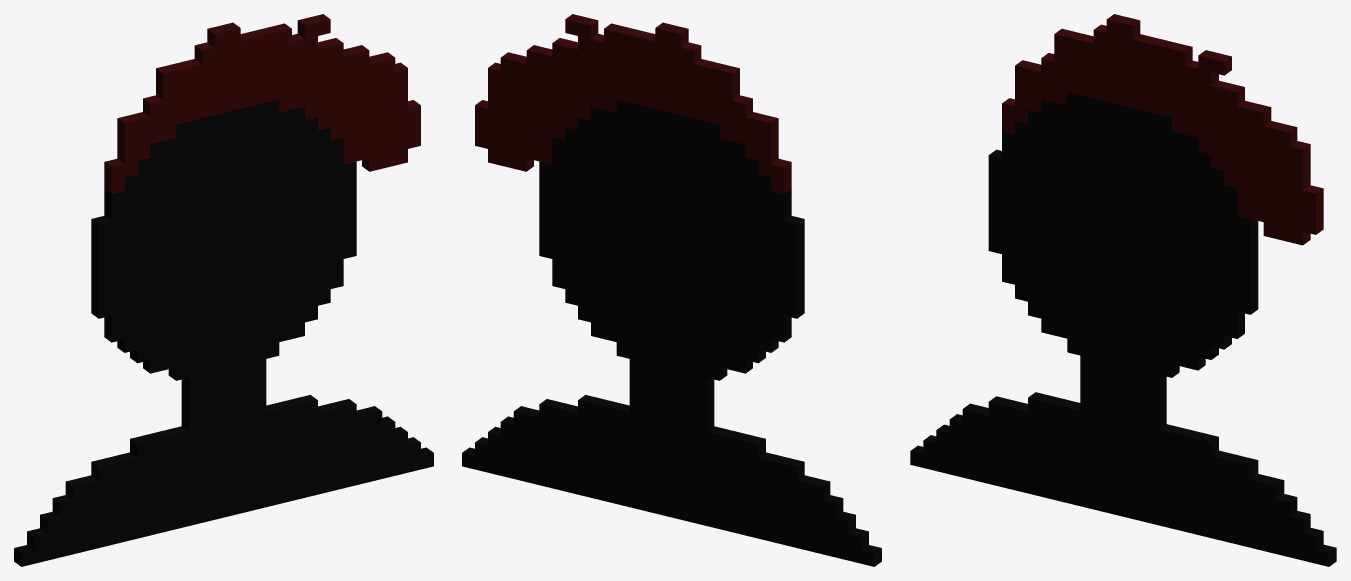
Rendered from Male1.obj.
3 renders of one model, left to right at view 1: azimuth 30°, elevation 25°; view 2: azimuth 150°, elevation 25°; view 3: azimuth 330°, elevation 25°, orthographic.
Bounding box in the file's own units: 3.2 × 3.6 × 0.1.
1 material, 1 textured.
